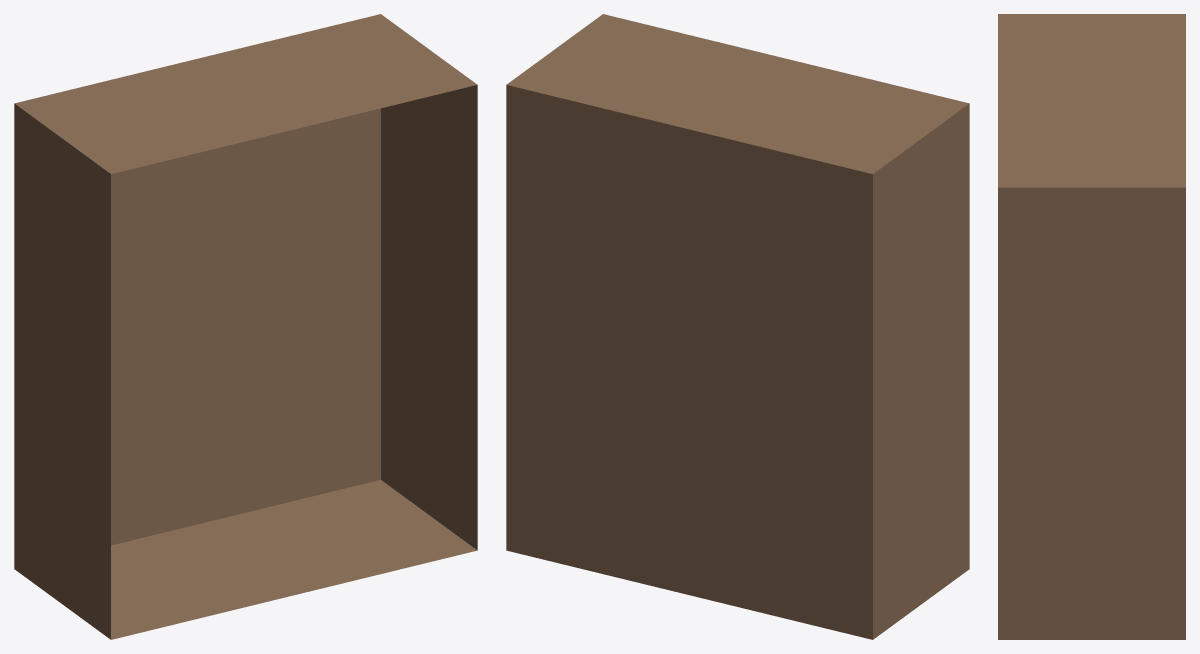
File: TuDoTho.glb
The picture shows the model from 3 angles, left to right: view 1: azimuth 30°, elevation 25°; view 2: azimuth 150°, elevation 25°; view 3: azimuth 270°, elevation 25°; orthographic projection. The views are drawn at different scales.
Visible parts, largest first — view 1: geometry_0; view 2: geometry_0; view 3: geometry_0.
Part boxes in pixels (left/top/right/bottom): geometry_0: left=14, top=14, right=477, bottom=639; geometry_0: left=506, top=14, right=969, bottom=639; geometry_0: left=998, top=14, right=1185, bottom=639.
Size of the model in its own units: 0.7 by 0.85 by 0.32.
